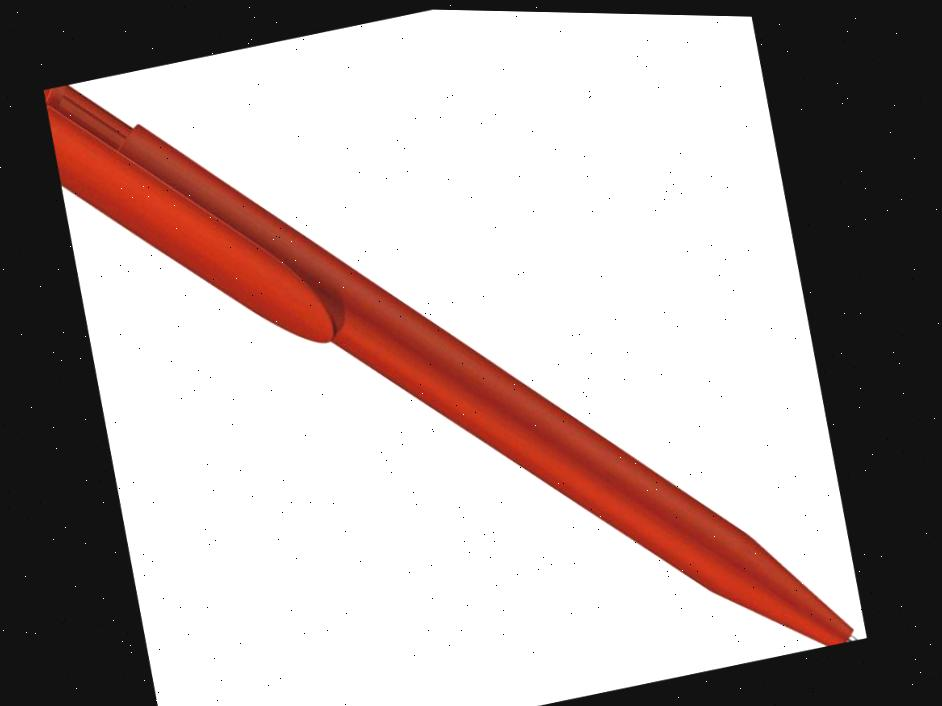pen-pencil: (44, 83, 856, 645)
